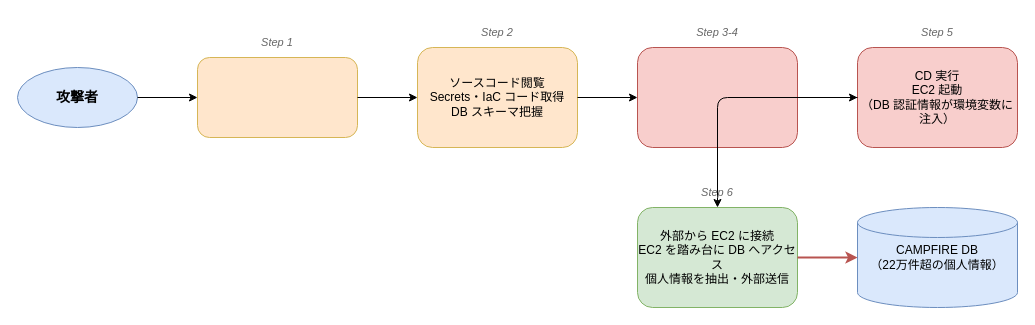
Some shapes in this 1035 by 325 pixel diagram are drawn without their labels. The shapes that lost their labels are listed below. From the top down, each one's box as (x1, y1, x2, y2) in pixels, then its label:
(196, 56, 358, 138): GitHub アカウント侵害 （CD 権限保有）
(636, 46, 798, 148): IaC コード改ざん （Terraform） EC2 をパブリックサブネットに追加
